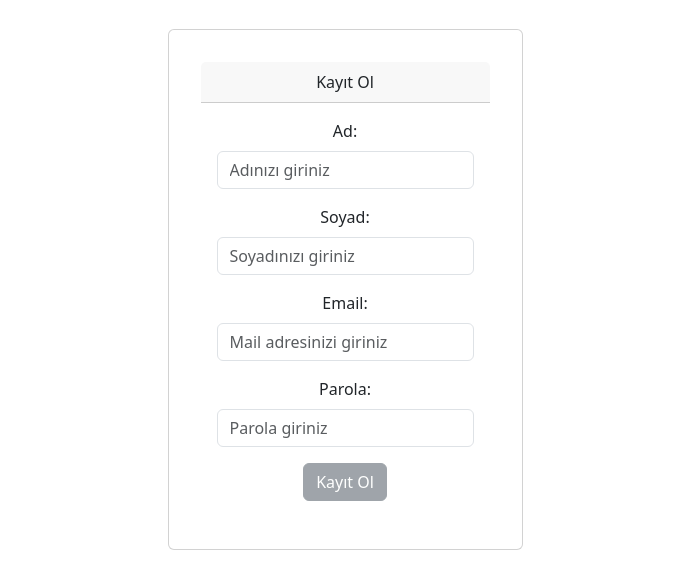
Register Page › Error Messages › Password input throws error for 1234
In the password field with test id "password-input": (346, 428) [217,409,474,447], type "1234"
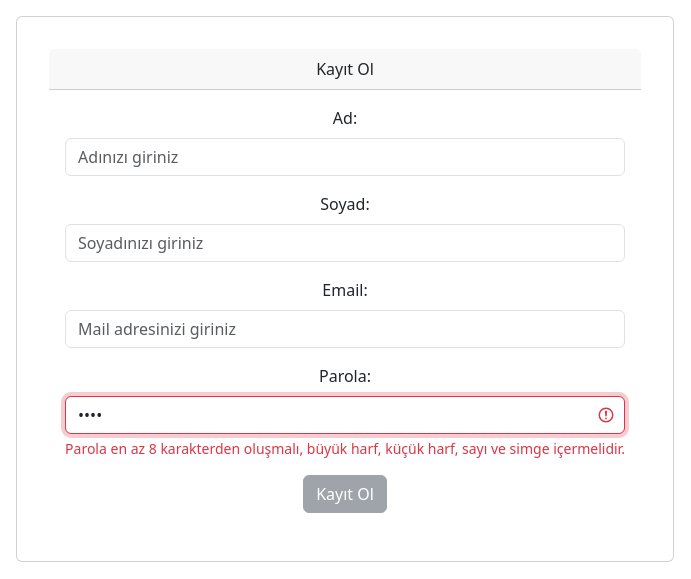
expect the text "Parola en az 8 karakterden oluşmalı, büyük harf, küçük harf, sayı ve simge içermelidir." is shown: met, box [65,439,625,458]
